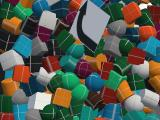Right: (69, 0, 111, 54)
